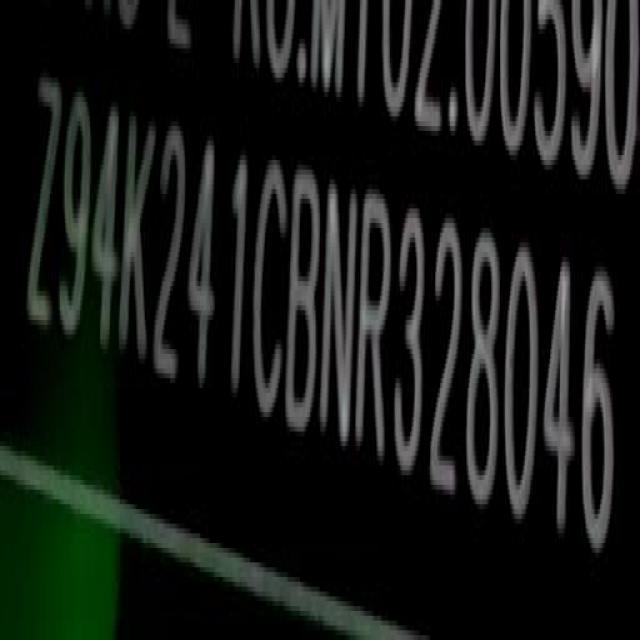0: (505, 241, 540, 526)
1: (224, 154, 249, 406)
2: (153, 122, 186, 387), (432, 221, 462, 498)
3: (394, 212, 427, 484)
4: (542, 254, 576, 543), (188, 136, 222, 395), (93, 100, 123, 355)
6: (583, 273, 620, 558)
8: (466, 226, 500, 512)
9: (58, 91, 93, 345)
B: (290, 166, 324, 439)
C: (254, 158, 288, 419)
K: (118, 107, 157, 373)
N: (320, 174, 358, 450)
R: (358, 190, 393, 464)
Z: (22, 70, 64, 339)
